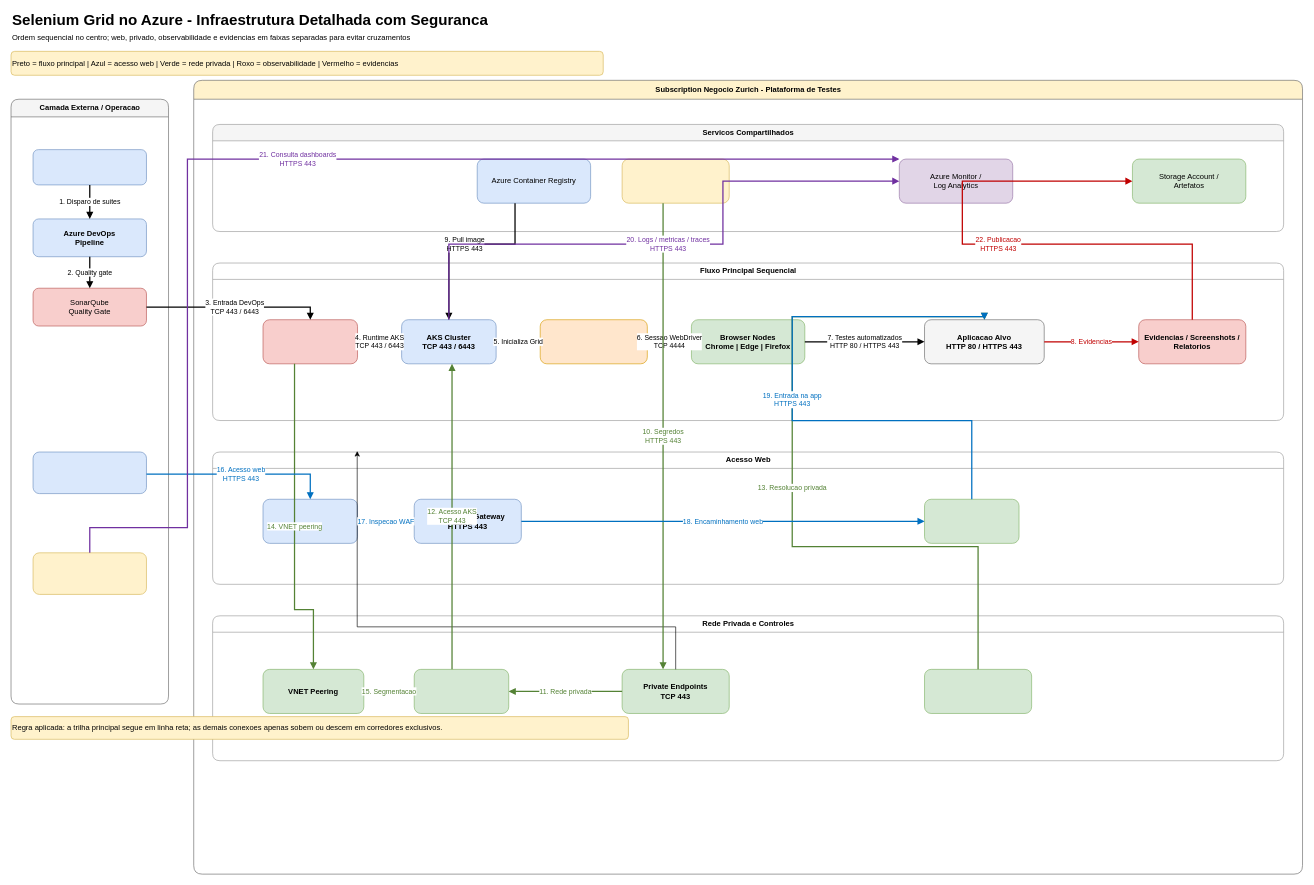
Image size: 1314x885. Some labels were removed from this diagram. Here are the shapes that lost their labels. From the top down, the centre of each, then its label:
(x=89, y=167): Time QA / Automacao
(x=675, y=180): Azure Key Vault
(x=310, y=341): Azure Firewall TCP 443 / 6443
(x=593, y=341): Selenium Grid Hub TCP 4444
(x=89, y=472): Usuario / Navegador Acesso ao ambiente alvo
(x=310, y=521): WAF Policy HTTPS 443
(x=971, y=521): NSG App
(x=89, y=573): Operacao / Sustentacao Consulta dashboards
(x=461, y=691): NSG AKS
(x=978, y=691): Private DNS Zones
